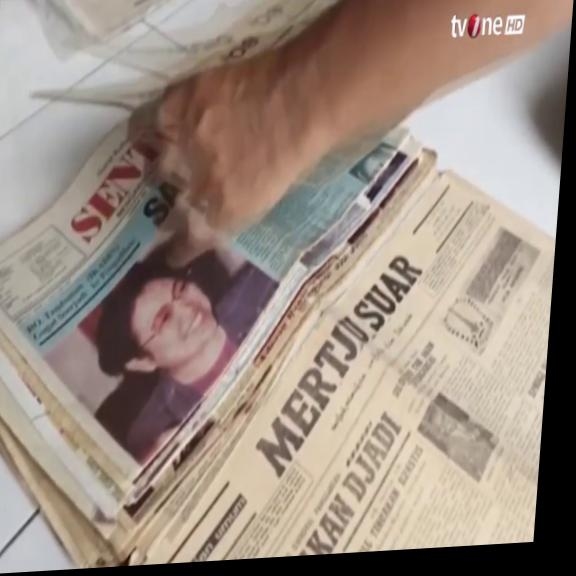Kertas: (97, 146, 563, 568), (39, 186, 410, 504)
